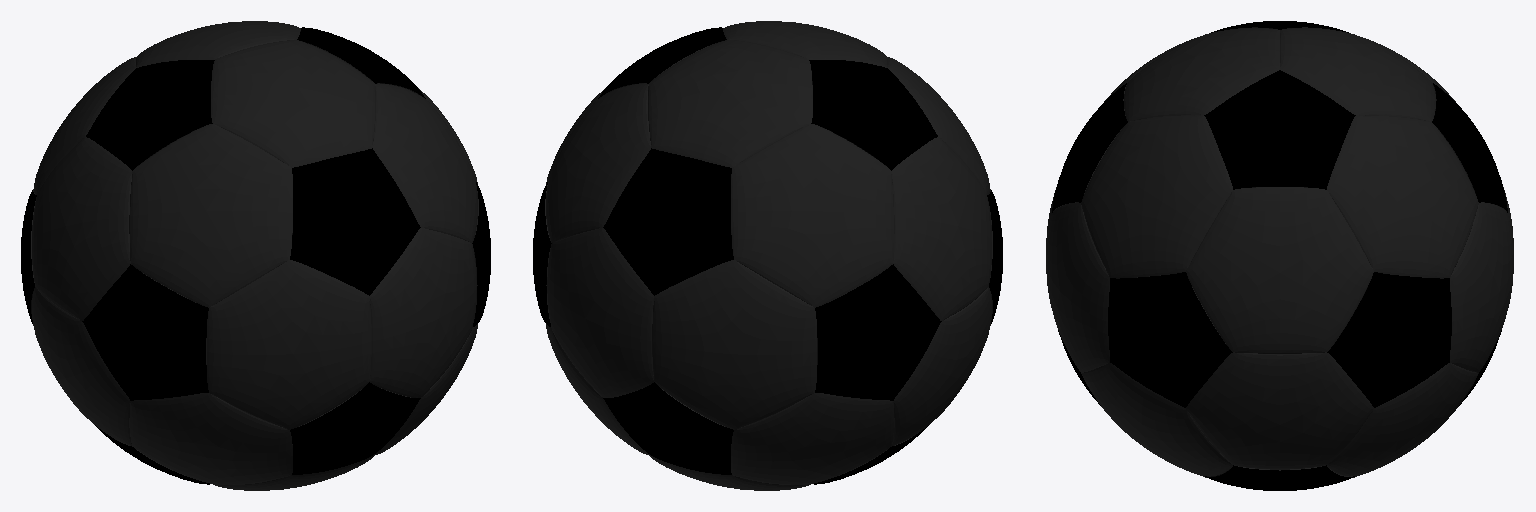
The model's file is soccerball.obj.
3 views of the same model, side by side, from view 1: azimuth 30°, elevation 25°; view 2: azimuth 150°, elevation 25°; view 3: azimuth 270°, elevation 25° (orthographic).
Parts seen in each view (by area): view 1: soccerball; view 2: soccerball; view 3: soccerball.
Boxes of the visible parts, <box> form: soccerball: <box>21,21,490,490</box>; soccerball: <box>533,21,1002,490</box>; soccerball: <box>1046,21,1513,490</box>.
Size of the model in its own units: 11.06 by 11.06 by 11.06.